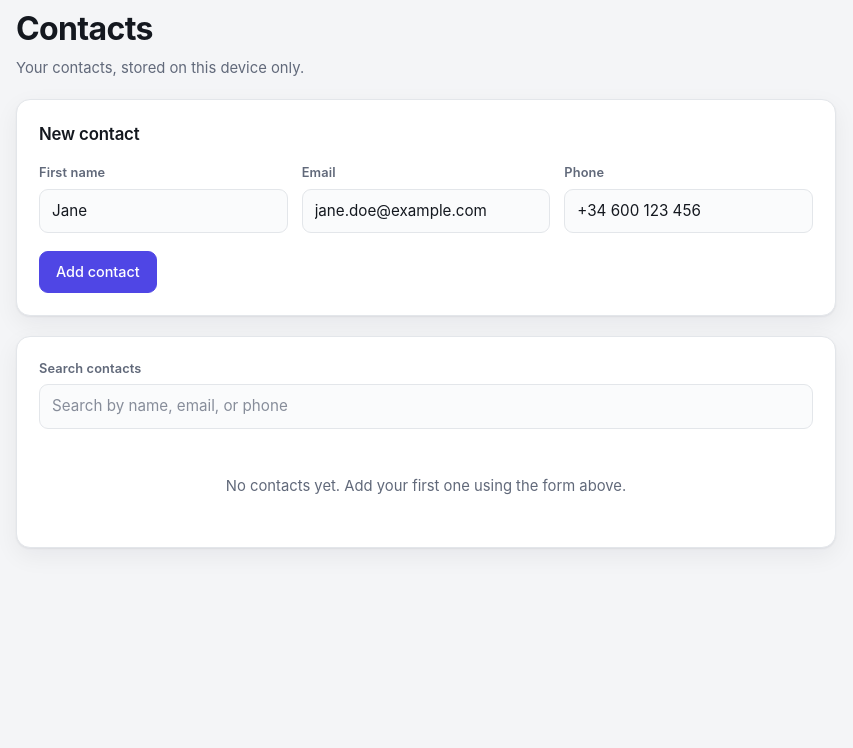
it: adding a contact › confirms the addition with a message
Replace the text in the field labelled "First name" with "Alice" at (163, 211), box [39,189,288,233]
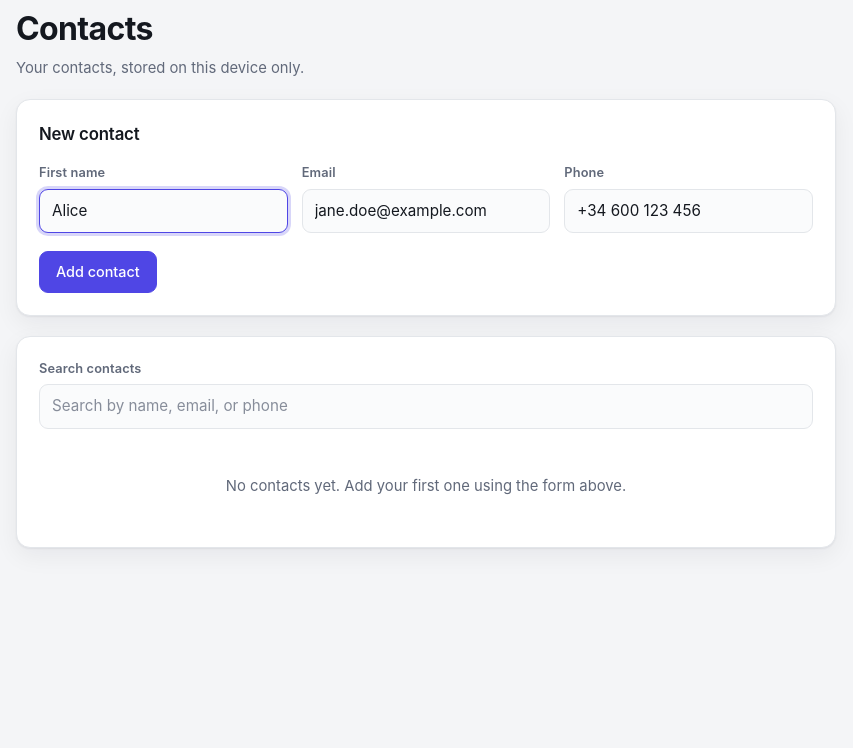
Replace the text in the field labelled "Email" with "alice@example.com" at (426, 211), box [302,189,550,233]
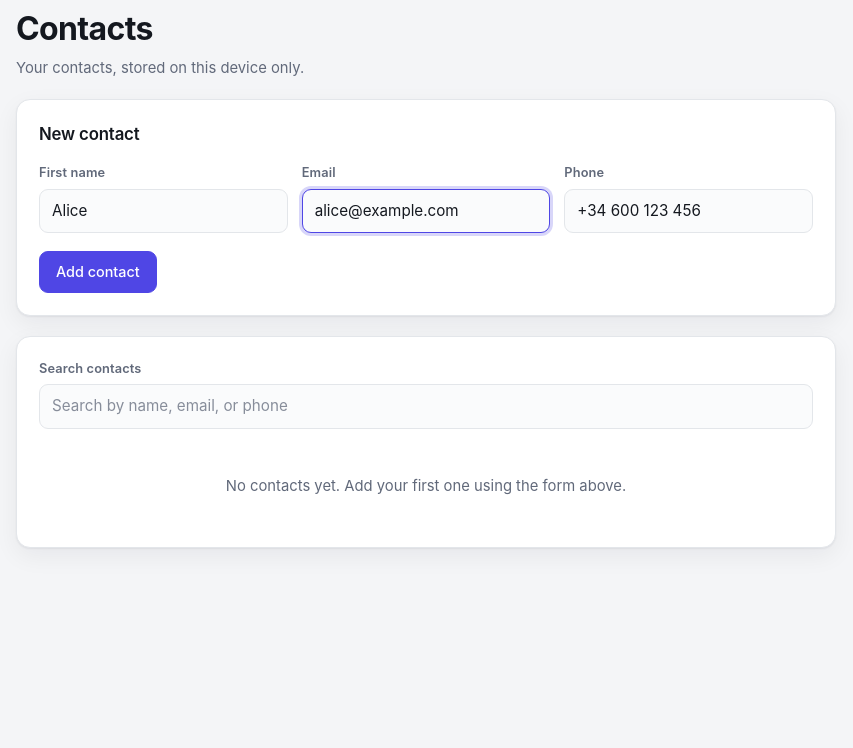
Replace the text in the field labelled "Phone" with "5551112222" at (689, 211), box [564,189,813,233]
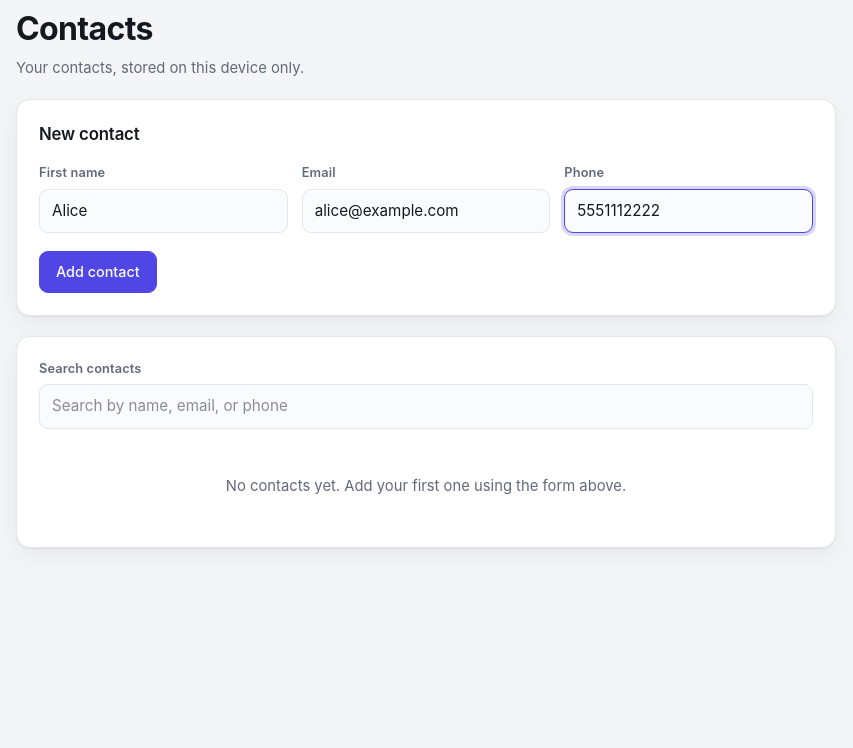
Click the button "Add contact" at (98, 272), box [39,251,157,293]
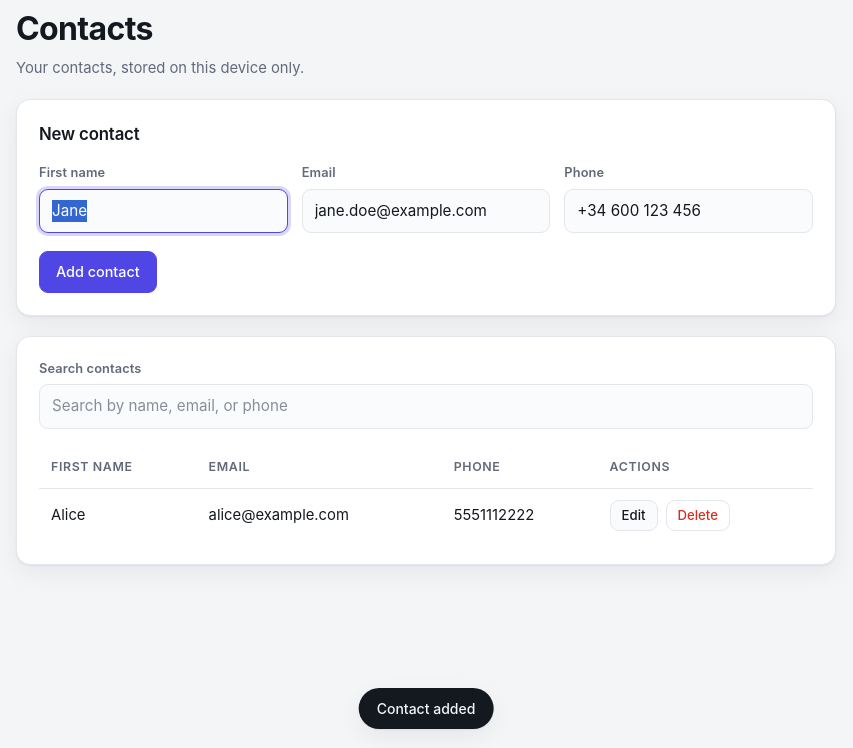
expect the text "Contact added" is shown: met, box [359,688,493,729]
